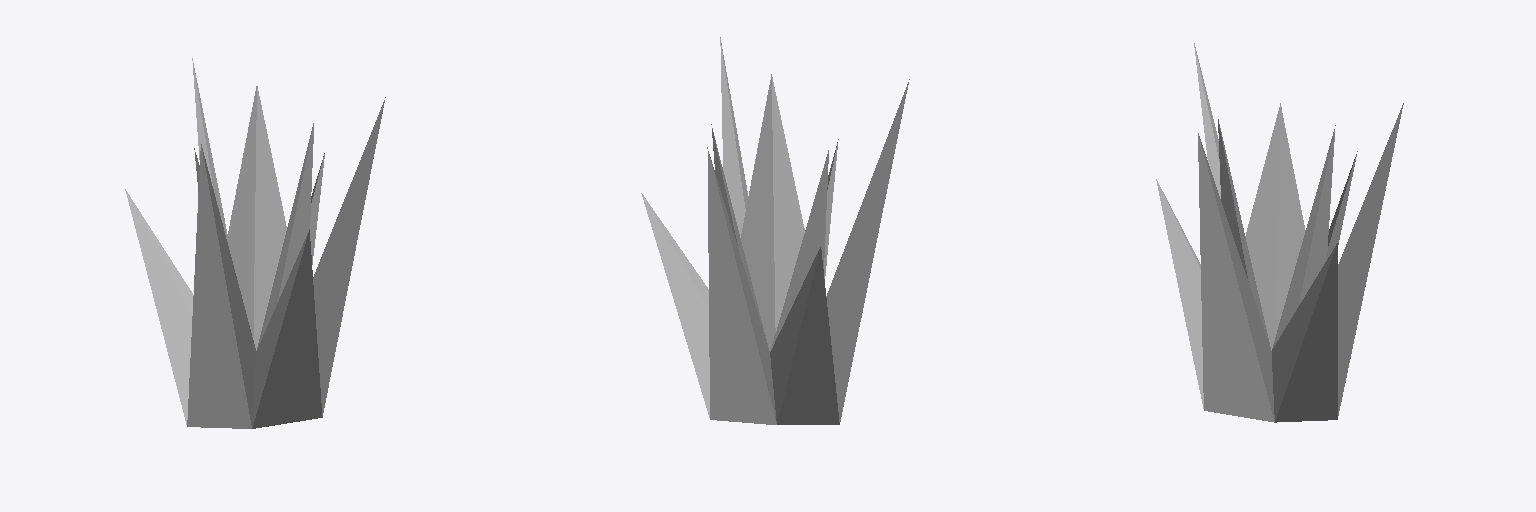
Rendered from Grass.obj.
The picture shows the model from 3 angles: view 1: azimuth 30°, elevation 25°; view 2: azimuth 150°, elevation 25°; view 3: azimuth 270°, elevation 25°; orthographic projection.
Visible parts, largest first — view 1: Mesh; view 2: Mesh; view 3: Mesh.
Part boxes in pixels (x1,y1,x2,y2): Mesh: (125,58,385,428); Mesh: (641,37,909,424); Mesh: (1156,43,1403,422).
Bounding box in the file's own units: 103 × 170 × 113.